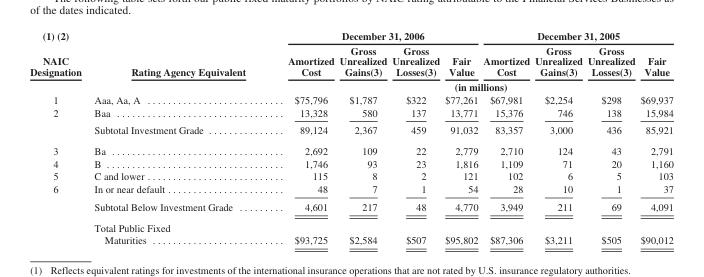table: (29, 29, 672, 245)
table column: (87, 29, 266, 245), (266, 29, 336, 245), (29, 29, 87, 245), (336, 29, 389, 245), (531, 29, 584, 245), (584, 29, 637, 245), (389, 29, 441, 245), (480, 29, 531, 245), (441, 29, 480, 245), (637, 29, 672, 245)
table column header: (29, 29, 672, 92)
table row: (29, 42, 672, 78), (29, 216, 672, 245), (29, 121, 672, 140), (29, 197, 672, 216), (29, 105, 672, 121), (29, 140, 672, 156), (29, 182, 672, 197), (29, 78, 672, 92), (29, 29, 672, 42), (29, 92, 672, 105), (29, 156, 672, 169), (29, 169, 672, 182)
table spanning cell: (87, 29, 266, 92), (266, 78, 672, 92), (29, 29, 87, 92), (29, 182, 87, 245), (266, 29, 480, 42), (480, 29, 672, 42), (29, 105, 87, 140)
